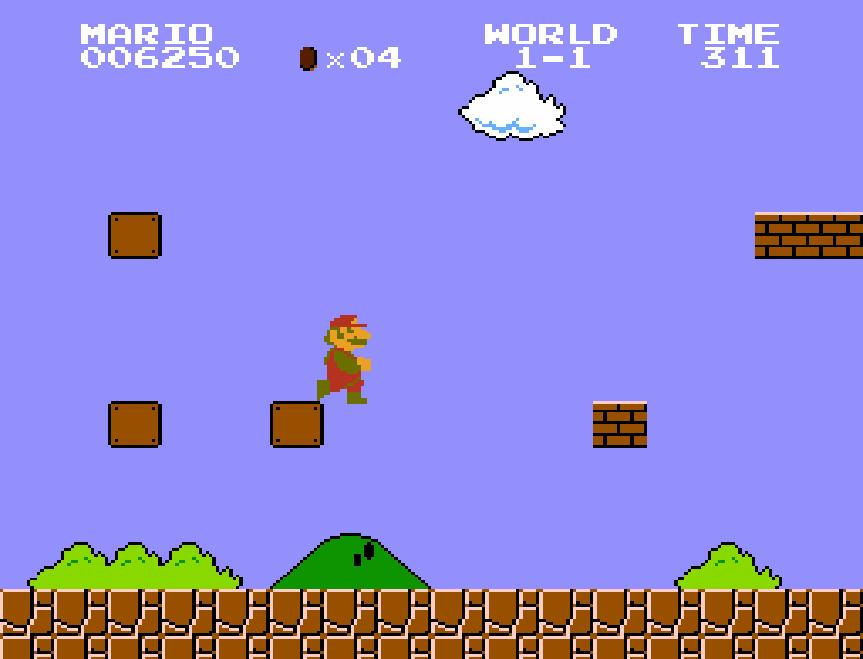big_mario: (314, 307, 372, 405)
